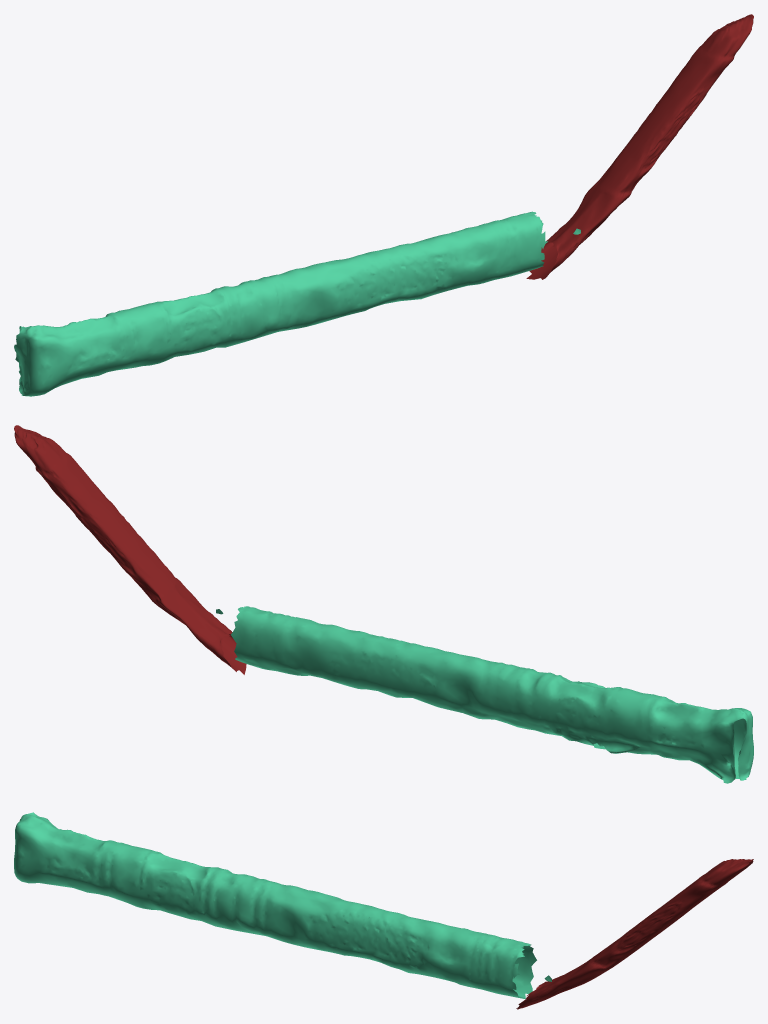
Rendered from object_deformed_1.obj.
The picture shows the model from 3 angles, top to bottom: view 1: azimuth 30°, elevation 25°; view 2: azimuth 150°, elevation 25°; view 3: azimuth 330°, elevation 25°; orthographic projection. The views are drawn at different scales.
Size of the model in its own units: 0.59 by 0.1545 by 0.0484.
